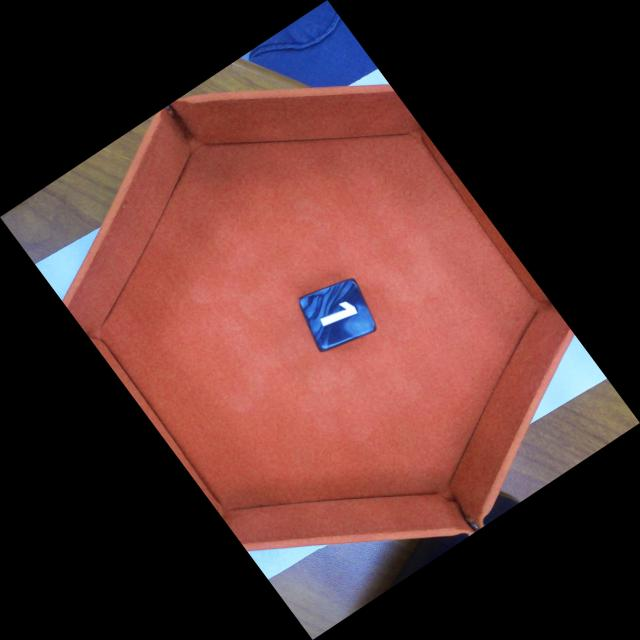dice: (298, 278, 377, 352)
